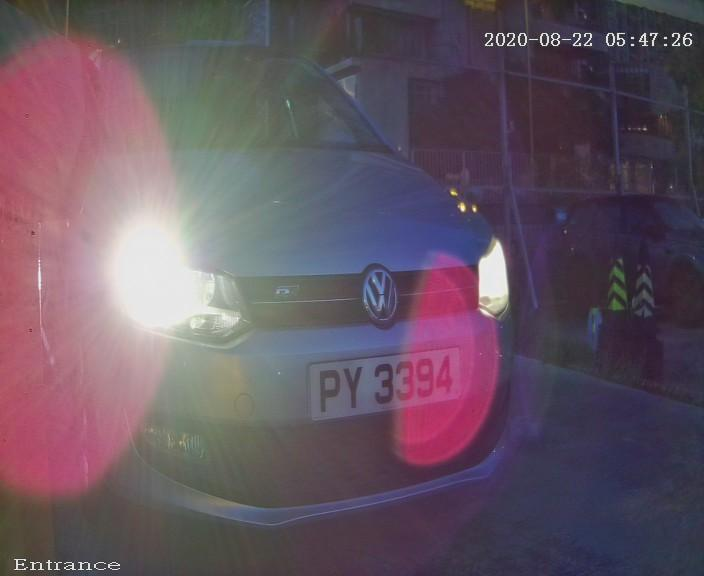Car: (7, 31, 569, 541)
License Plate: (287, 323, 481, 432)
